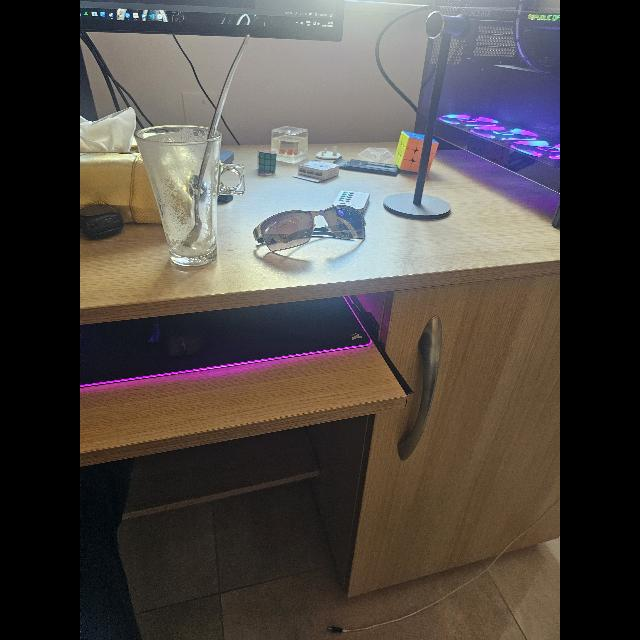Sunglasses: (253, 206, 365, 252)
